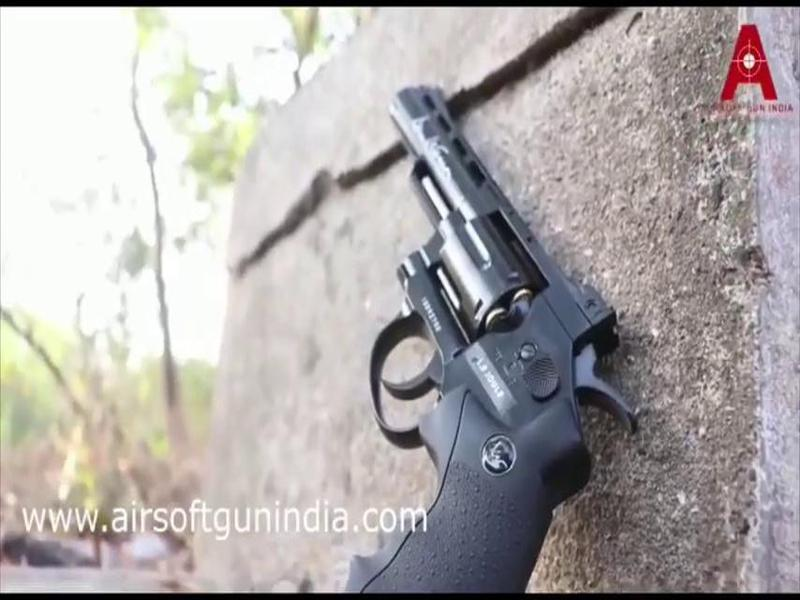Revolver: (306, 66, 654, 600)
